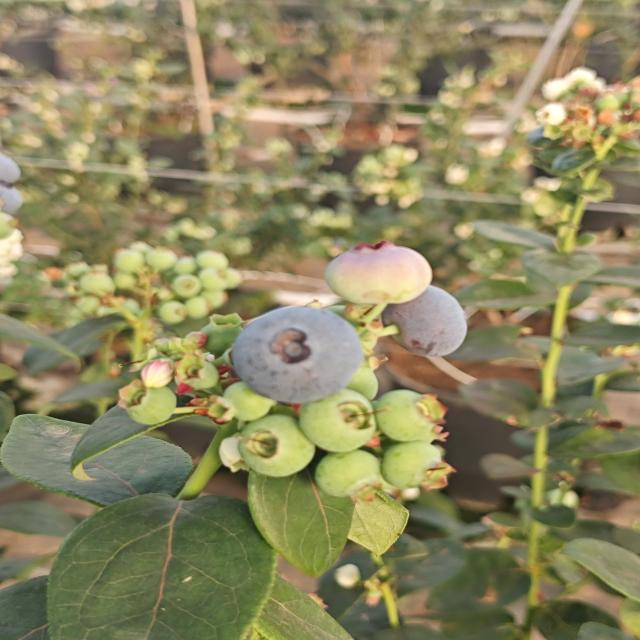ripe: (229, 298, 369, 405), (385, 278, 474, 360)
